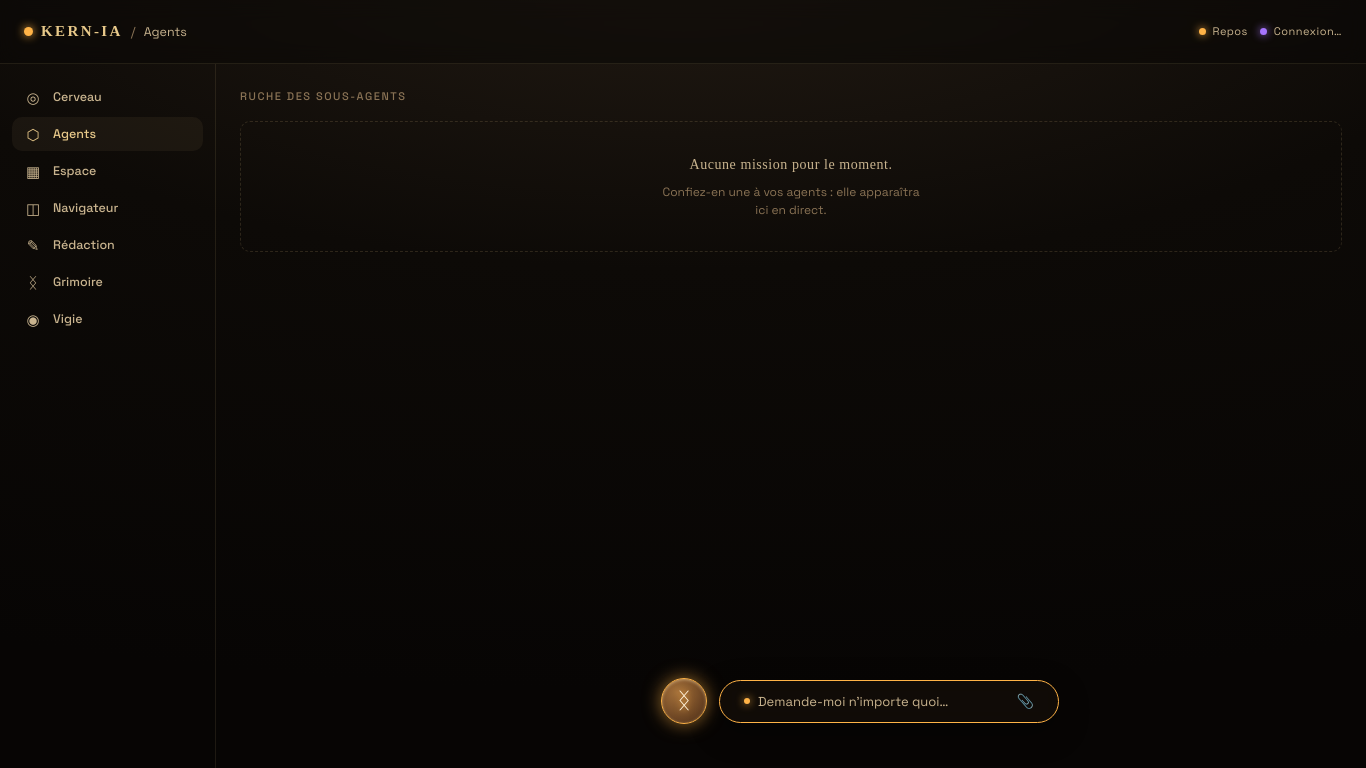
Scenario: switches view on click
The width and height of the screenshot is (1366, 768).
Click the tab "◎ Cerveau" at x=108, y=97, box top-left (12, 80), bottom-right (203, 114)
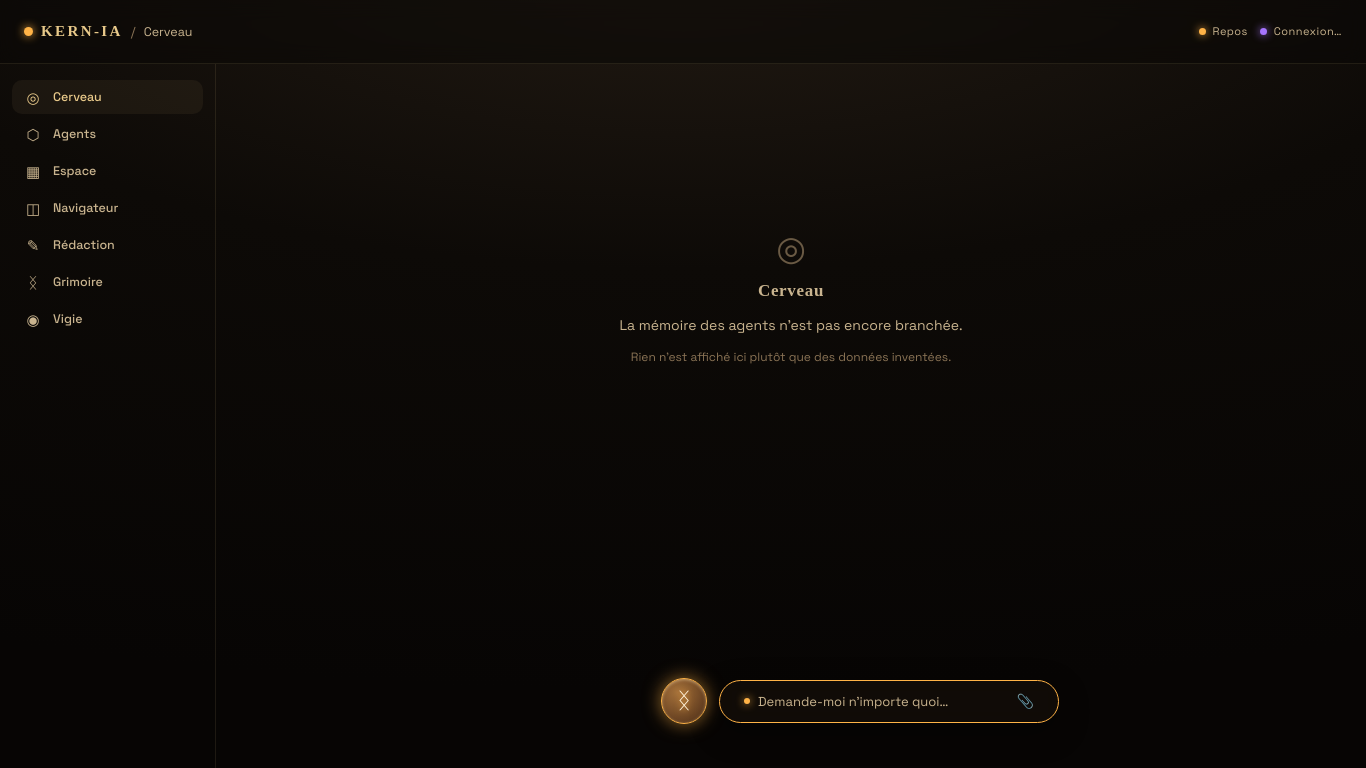
Now the text "La mémoire des agents n'est pas encore branchée." is shown, box top-left (620, 315), bottom-right (963, 336)
